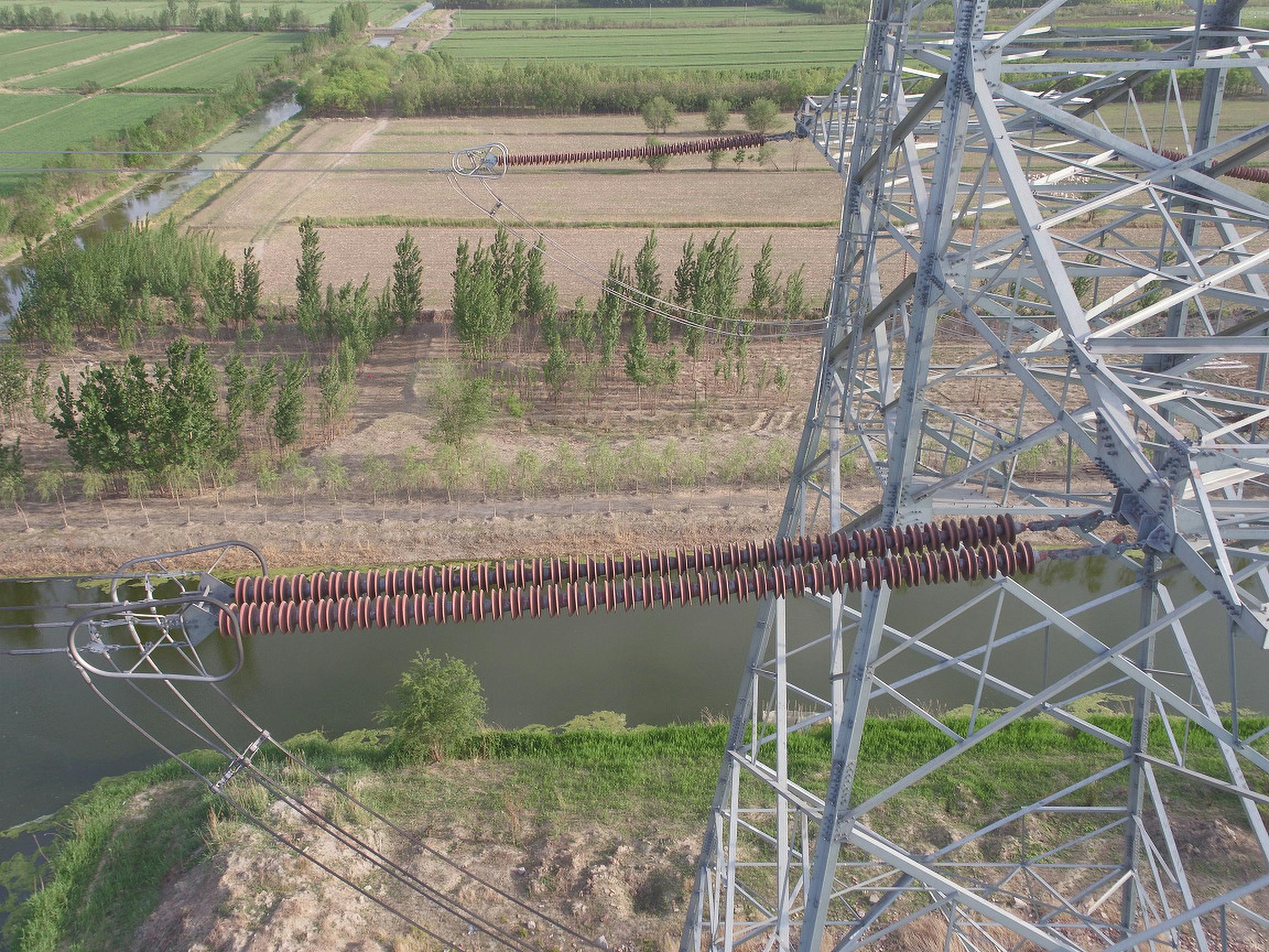insulator: (213, 509, 1043, 643), (495, 130, 768, 168), (1134, 142, 1269, 187)
